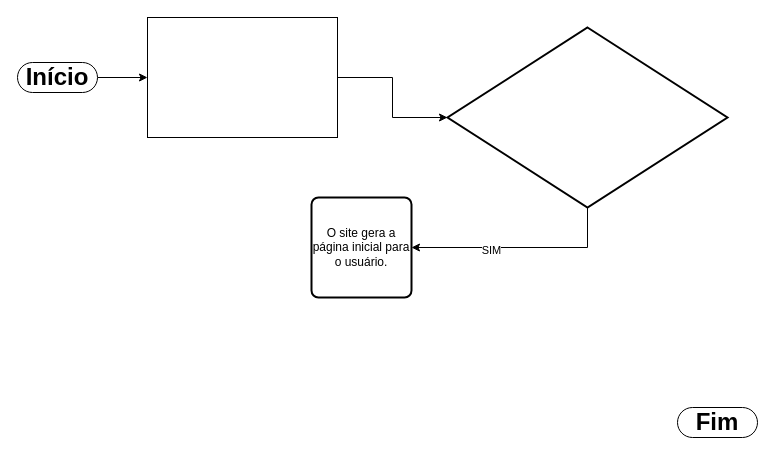
The diagram is 775 pixels wide and 470 high, and some of its shapes have lost their labels. The centre of each missing label's shape, as x and y in pixels:
"E-mail está correto e a senha está funcional?" belongs at point (587, 117).
"Insira seu e-mail e sua senha para cadastrar-se no site." belongs at point (242, 77).
